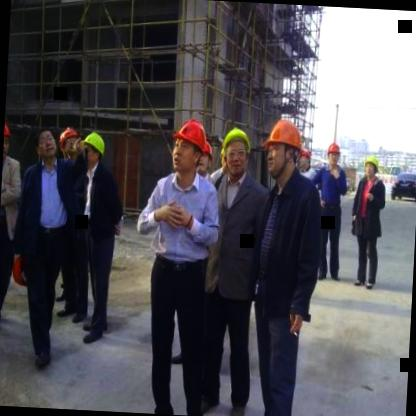head: (32, 126, 58, 168)
helmet: (260, 116, 306, 184), (168, 116, 209, 175), (221, 120, 252, 178), (80, 128, 108, 173), (58, 124, 81, 168), (323, 136, 344, 171), (361, 151, 381, 183), (2, 117, 12, 164)
